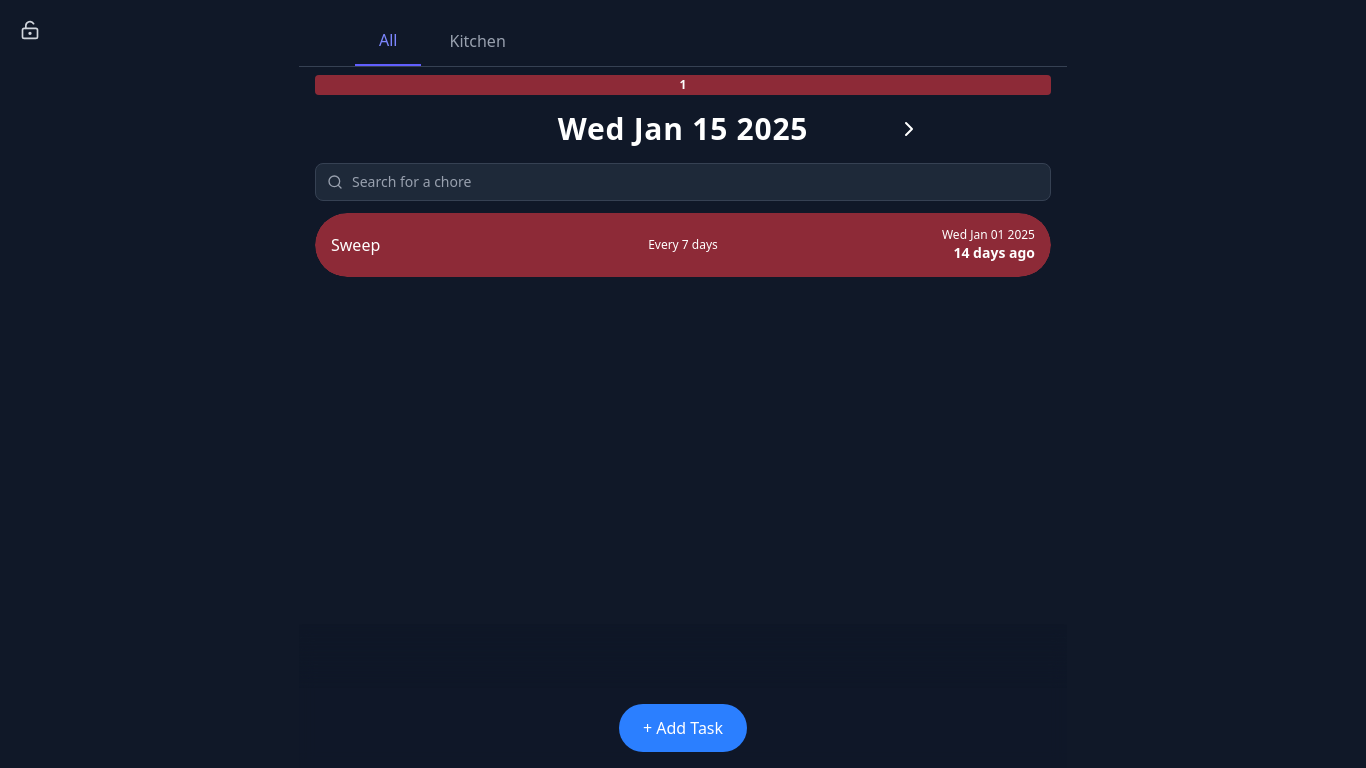
Test: swipe gestures › swiping a bar right opens the delete confirmation without deleting yet
Expected: the text "Sweep" is shown, [331,234,380,256]
Press the mouse on the element with test id "chore-bar" at (683, 245), box [315,213,1051,277]
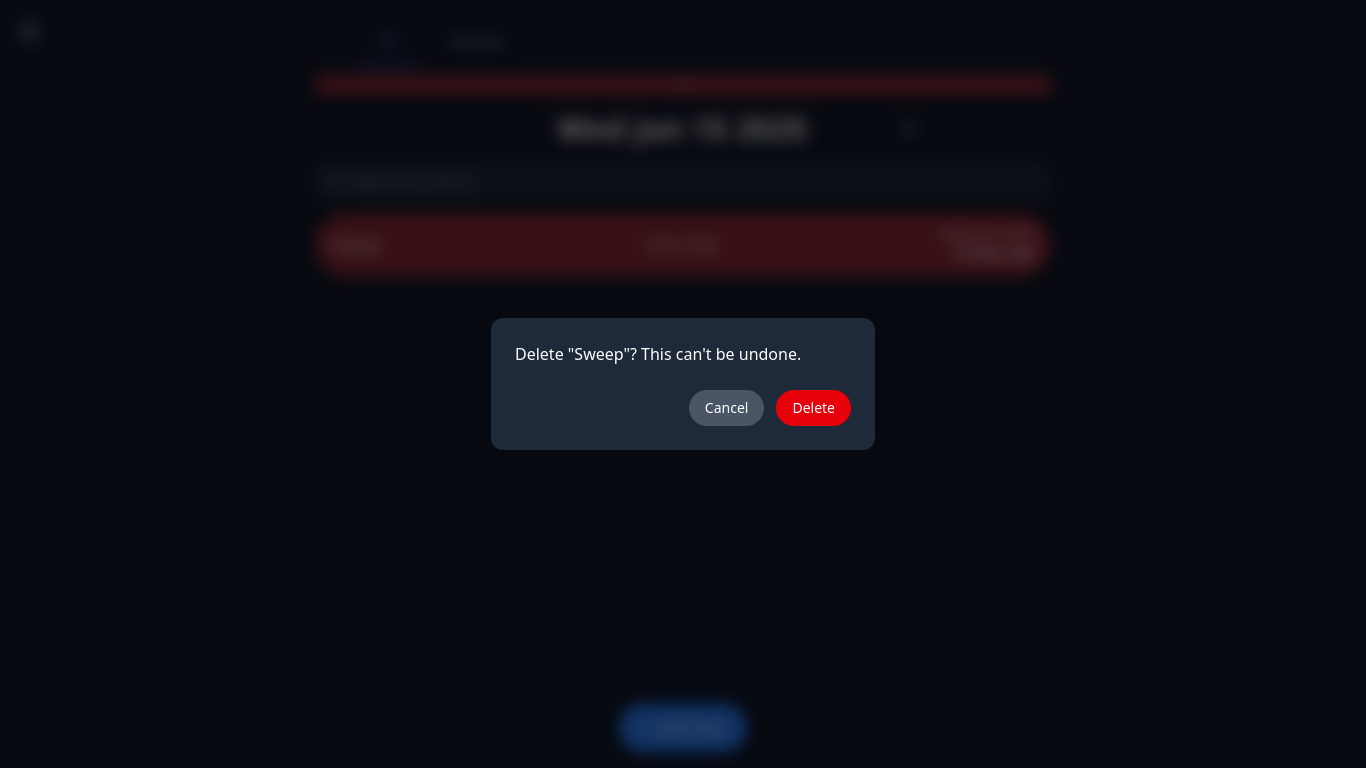
Expected: the button with test id "confirm-dialog-confirm" is shown, [776,390,851,426]
